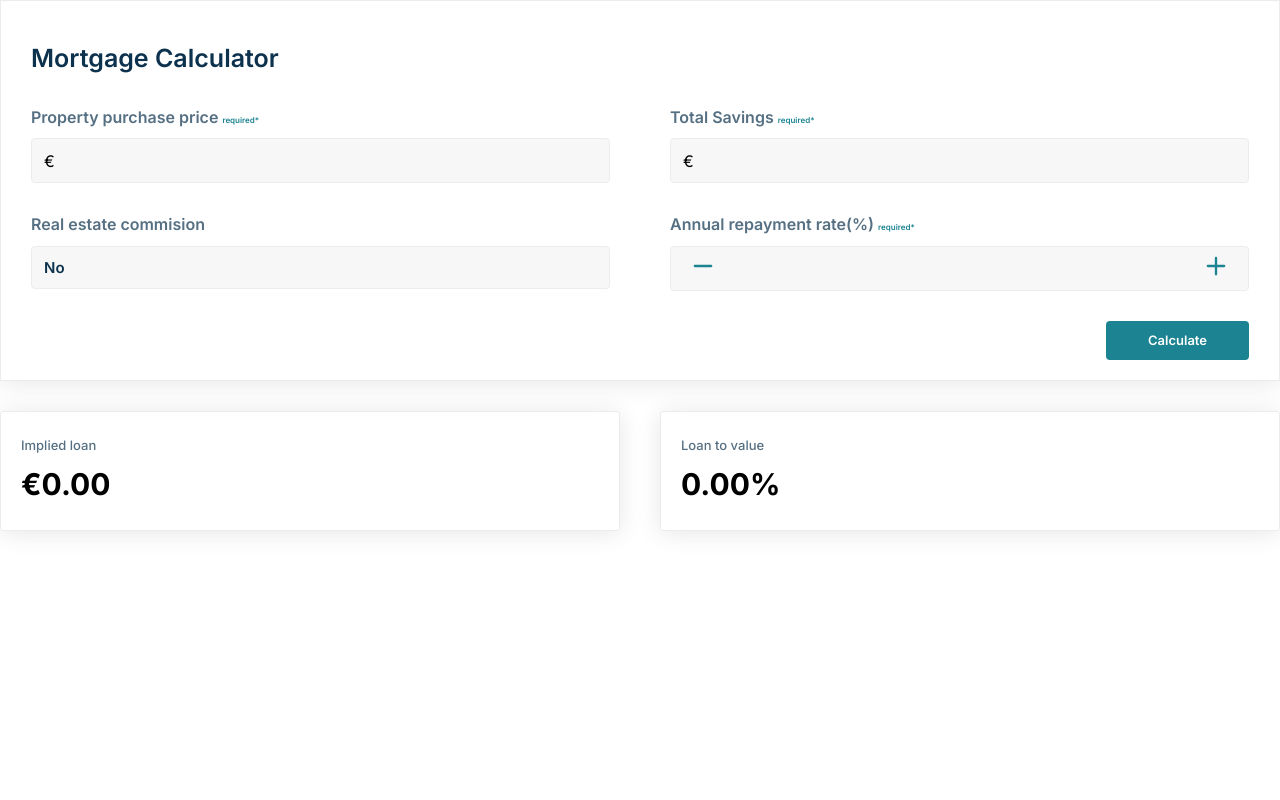
Test case: MortgageCalculator › throws error when required inputs are not filled
The width and height of the screenshot is (1280, 800).
Click the button "Calculate": {"x": 1178, "y": 340} [1106,321,1249,360]
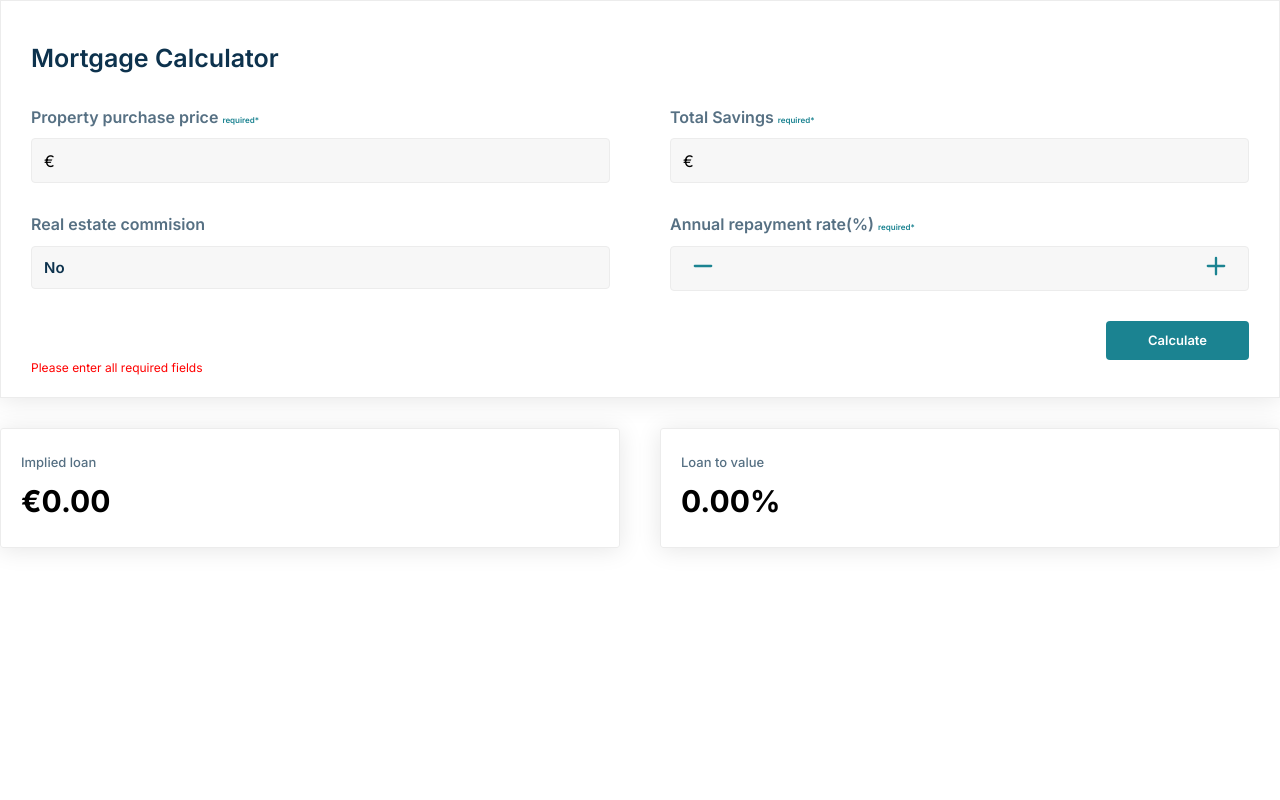
Now the text "Please enter all required fields" is shown, box [31,360,202,375]
